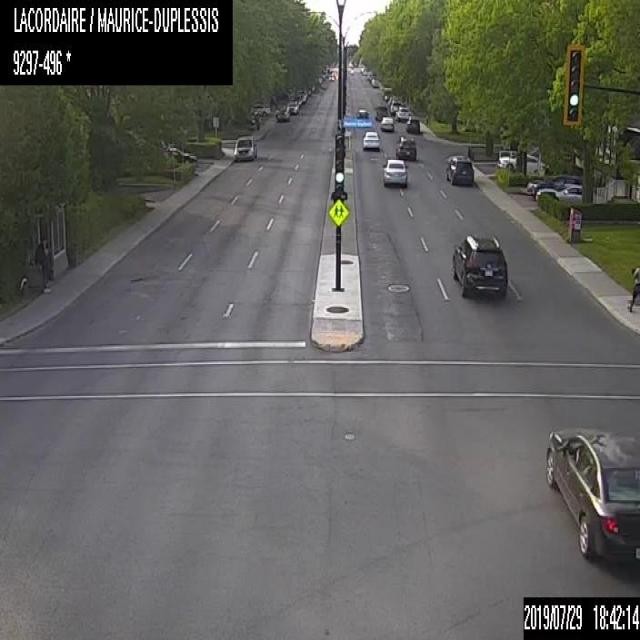pedestrian: (34, 239, 50, 293), (627, 266, 639, 314)
vehicle: (544, 424, 639, 567), (449, 231, 507, 296), (528, 171, 583, 193), (496, 150, 549, 172), (444, 151, 474, 185), (533, 182, 582, 201), (382, 157, 407, 185), (167, 146, 197, 166), (233, 133, 256, 159), (396, 135, 418, 159), (404, 115, 421, 134), (362, 130, 379, 148), (274, 104, 290, 121), (394, 106, 412, 120), (251, 104, 270, 116), (379, 116, 394, 130), (374, 105, 388, 120), (389, 98, 402, 114), (286, 99, 298, 114), (356, 105, 368, 118), (382, 90, 392, 100), (296, 92, 305, 103), (370, 77, 379, 87), (293, 95, 301, 106), (387, 96, 395, 106), (328, 74, 333, 80)
